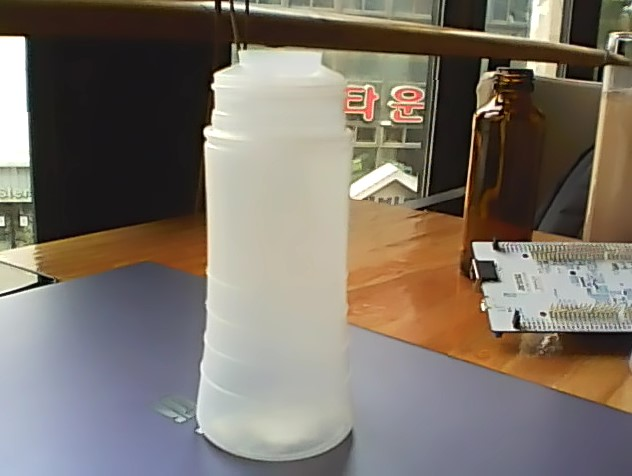Plastic: (190, 44, 362, 464)
